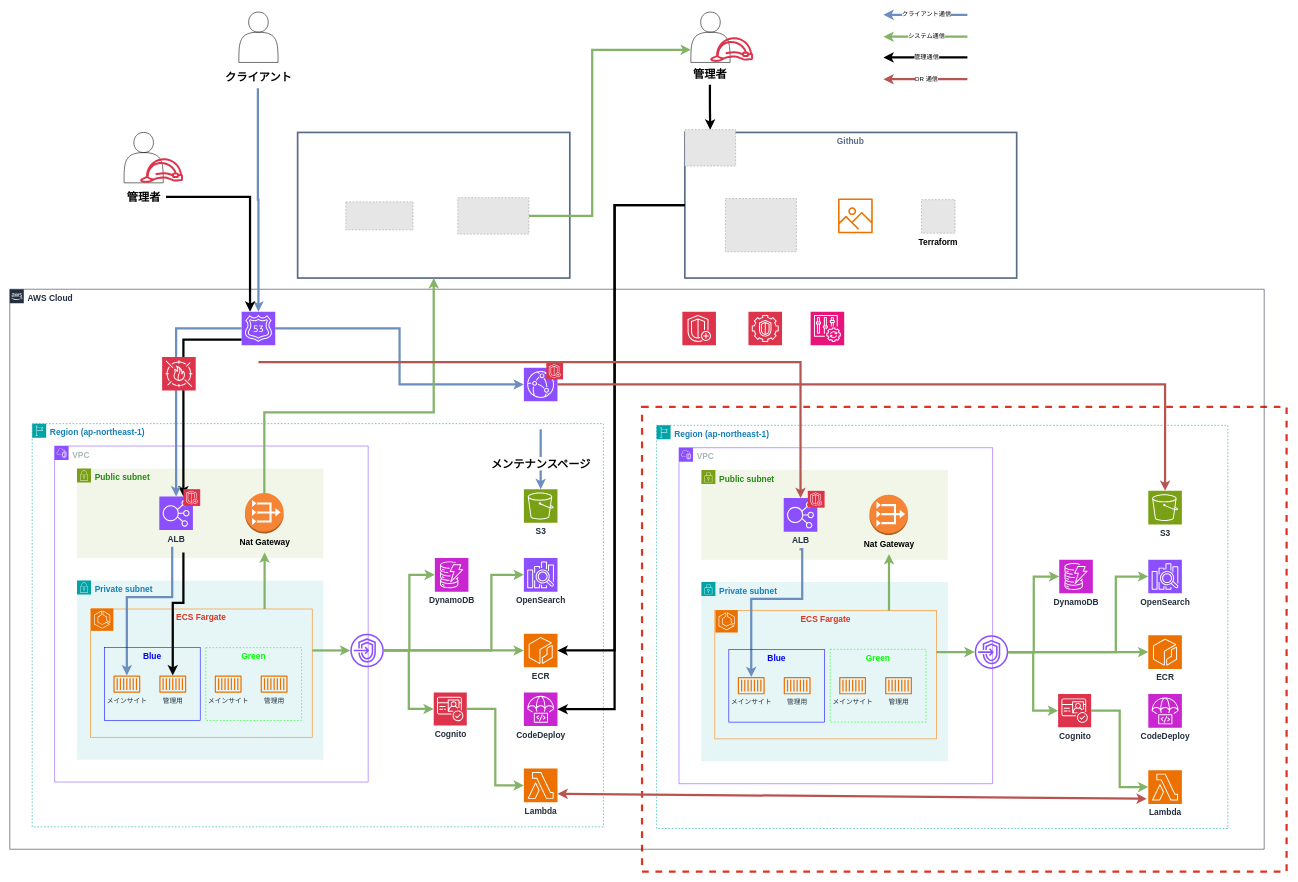
The diagram is 1298 pixels wide and 882 high, and some of its shapes have lost their labels. Grey dashed boxes stand in for pictures. Each missing label, with the box of its shape:
AWS WAF: (162, 356, 196, 391)
AWS 外部サービス: (297, 131, 570, 279)
CloudFront: (523, 367, 557, 401)
Config: (810, 311, 844, 345)
Container Image: (838, 198, 872, 233)
DR 環境: (641, 405, 1287, 872)
GuardDuty: (748, 311, 782, 345)
Route53: (241, 311, 275, 345)
Shield Advanced: (682, 311, 716, 345)
